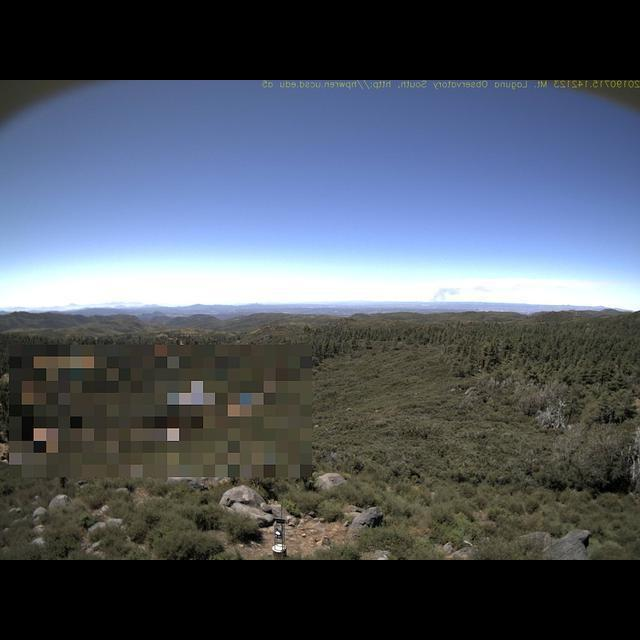Smoke: (431, 281, 491, 308)
